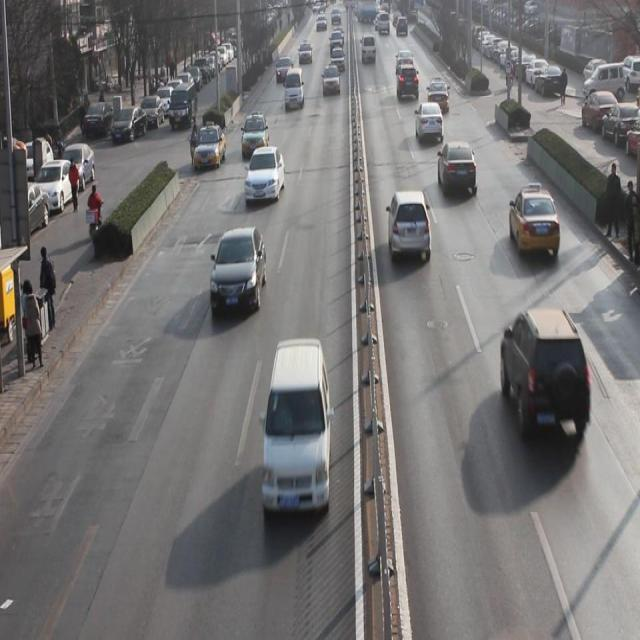car: (498, 305, 593, 449), (210, 228, 266, 314), (509, 187, 562, 261), (388, 190, 432, 263), (244, 146, 284, 204), (437, 141, 477, 196), (193, 124, 226, 170), (240, 112, 270, 158), (415, 101, 443, 147), (397, 62, 420, 100), (427, 78, 449, 112), (322, 64, 342, 96), (276, 54, 292, 83)
truck: (261, 341, 331, 517), (284, 68, 305, 114)
